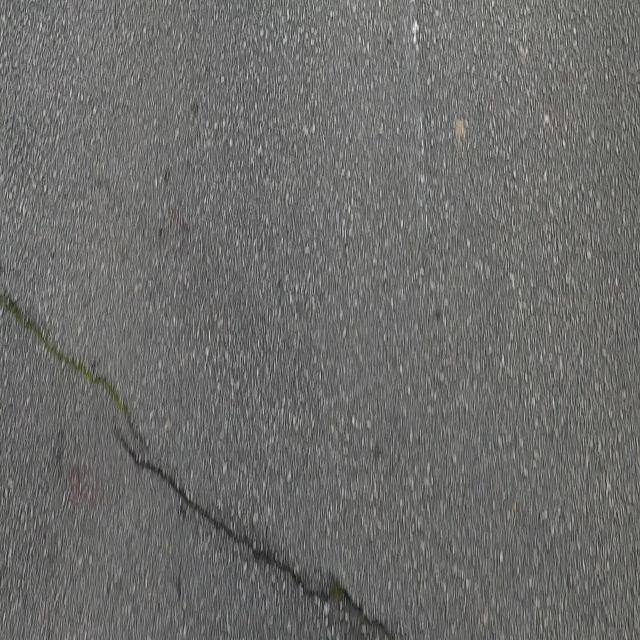Retak-Melintang: (115, 424, 399, 640), (0, 281, 147, 444)
